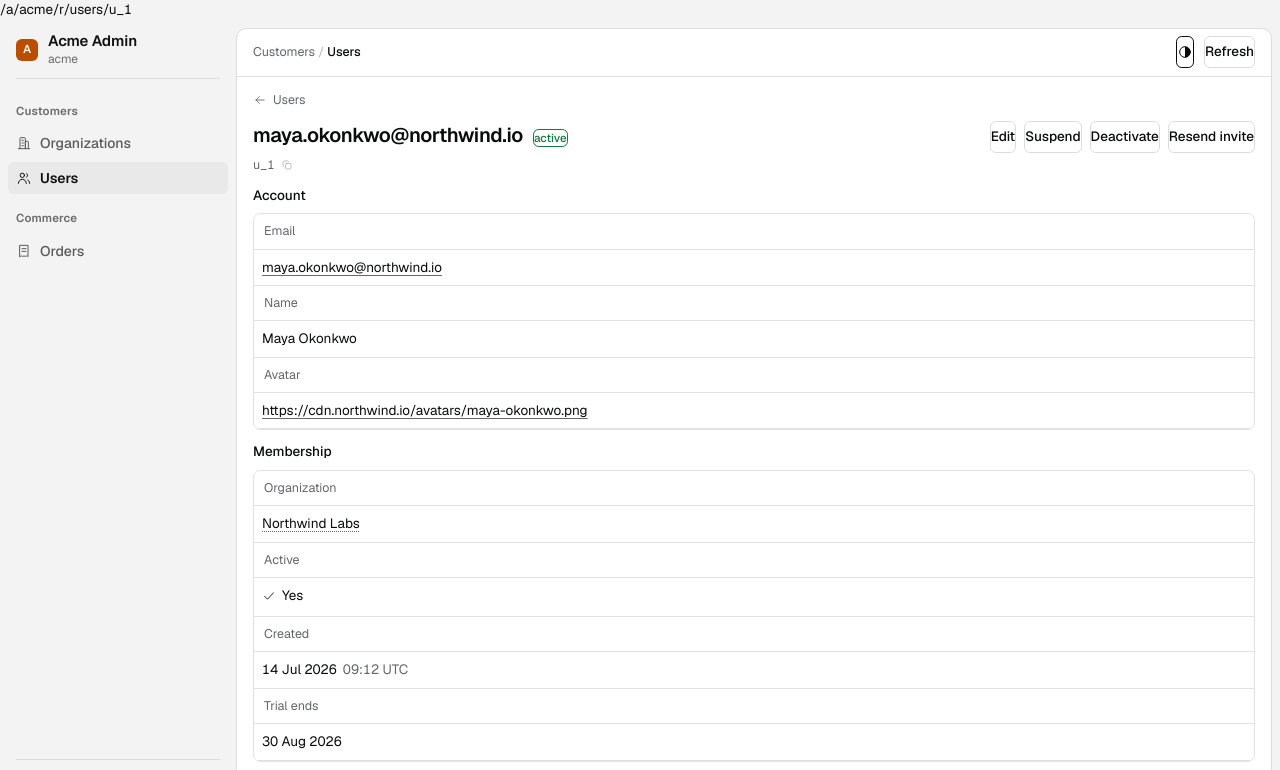
it: the record page › actions › runs nothing on a question that was answered no
Expected: the heading "maya.okonkwo@northwind.io" is shown, [253,121,523,150]
Click the button "Resend invite" at (1211, 137), box [1168,121,1255,153]
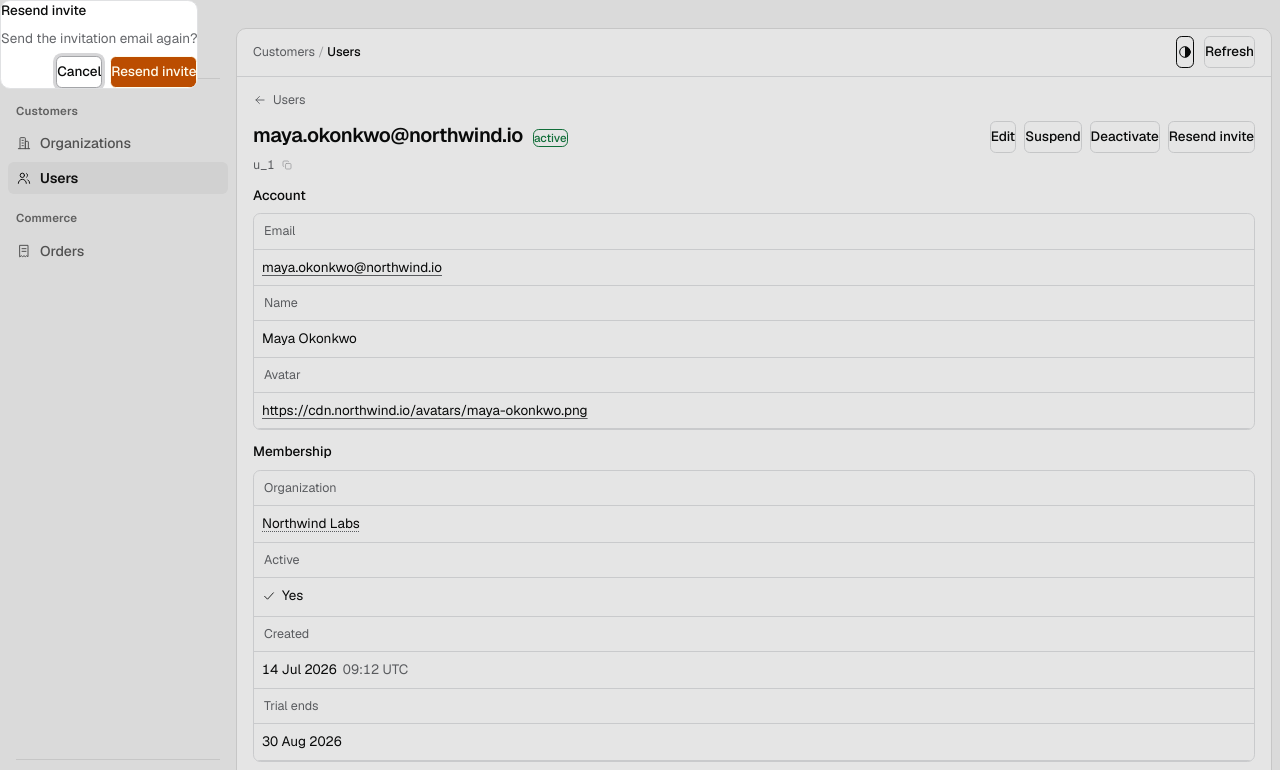
Click the button "Cancel" at (79, 72), box [56,56,102,88]
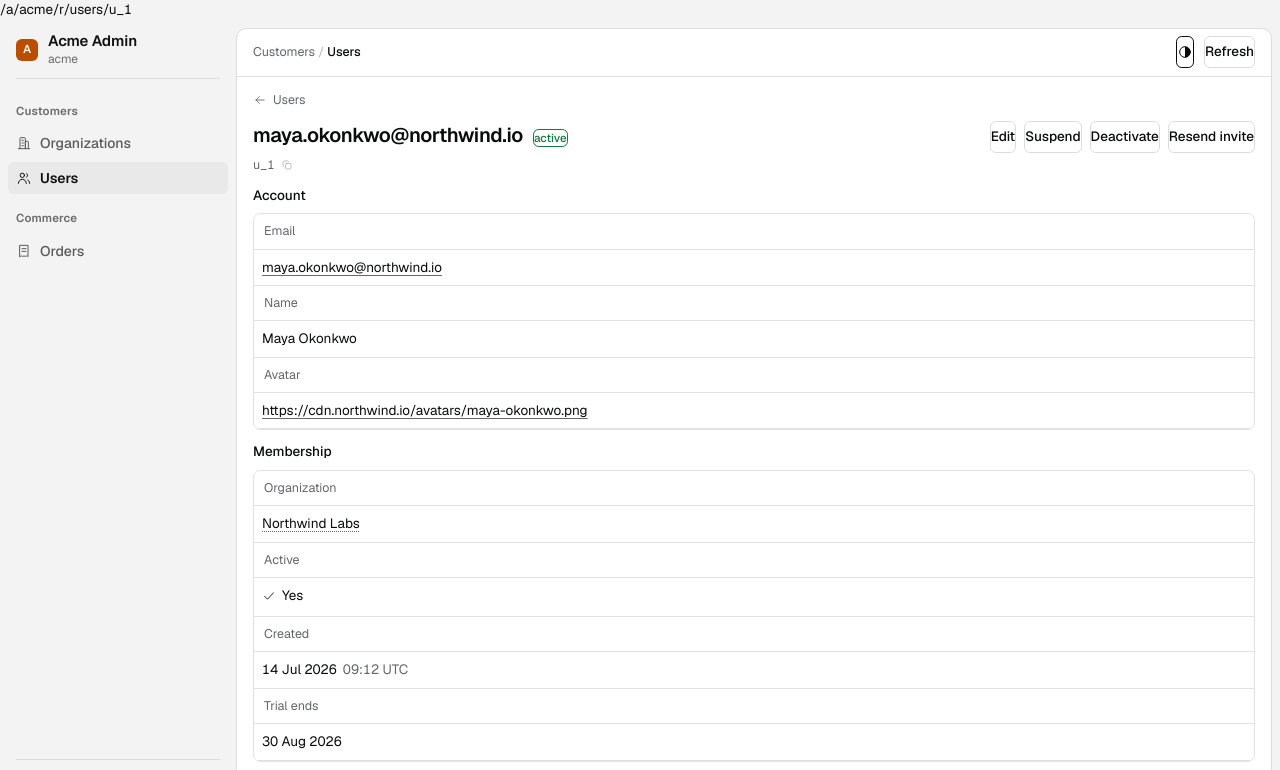
Expected: the dialog is gone
